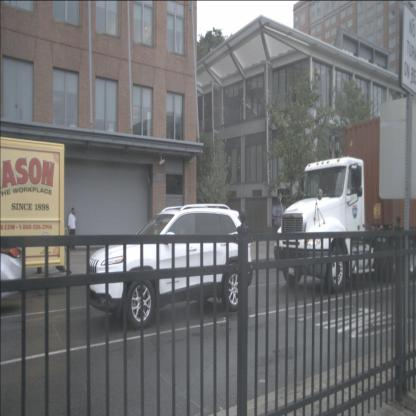human-pedestrian-adult: (68, 208, 76, 250)
vehicle-car: (87, 207, 254, 334)
vehicle-truck: (274, 156, 364, 292), (0, 135, 65, 300)
